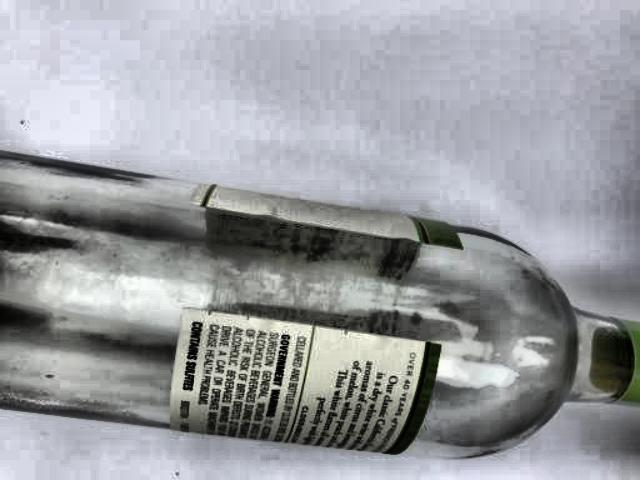Bottles: (0, 111, 640, 480)
